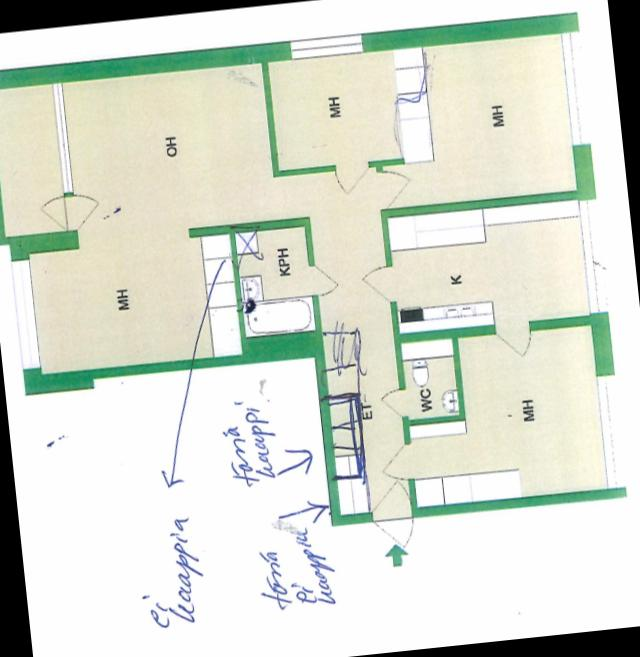door: (371, 507, 426, 553), (364, 478, 418, 520), (488, 320, 542, 360), (358, 260, 400, 309), (64, 184, 103, 233), (372, 163, 412, 210), (381, 436, 418, 486), (34, 188, 74, 231), (330, 157, 376, 192), (304, 256, 340, 300), (377, 383, 414, 423)
window: (4, 248, 49, 370), (592, 366, 628, 493), (554, 24, 590, 148), (574, 192, 606, 317), (281, 27, 375, 66)
